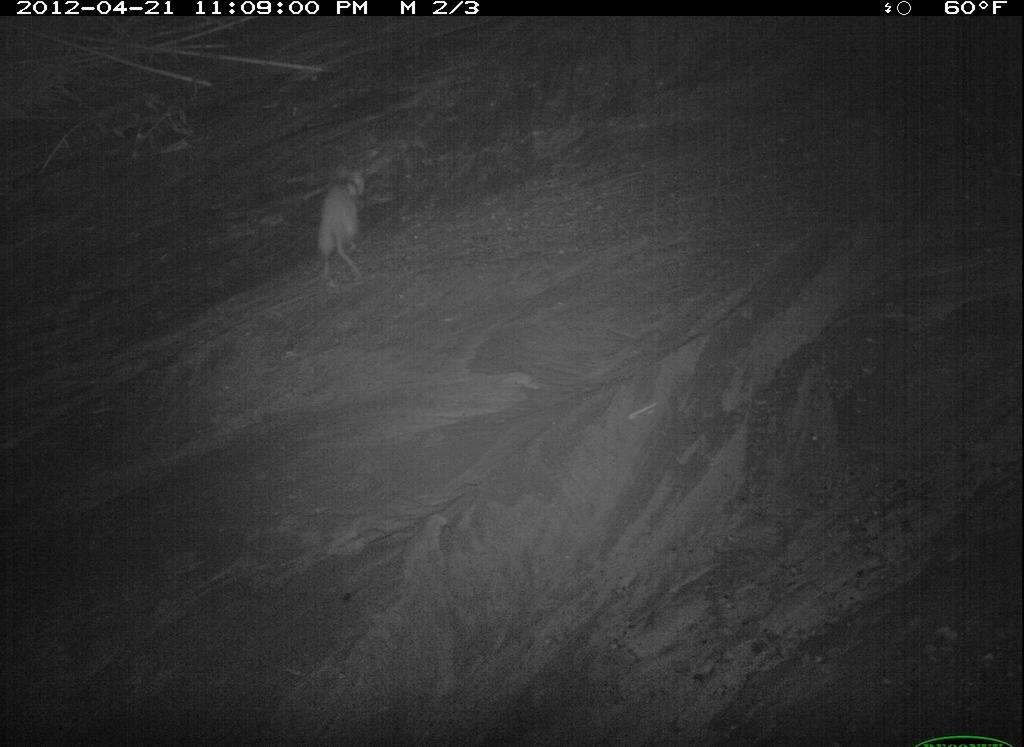opossum: (624, 320, 748, 593)
